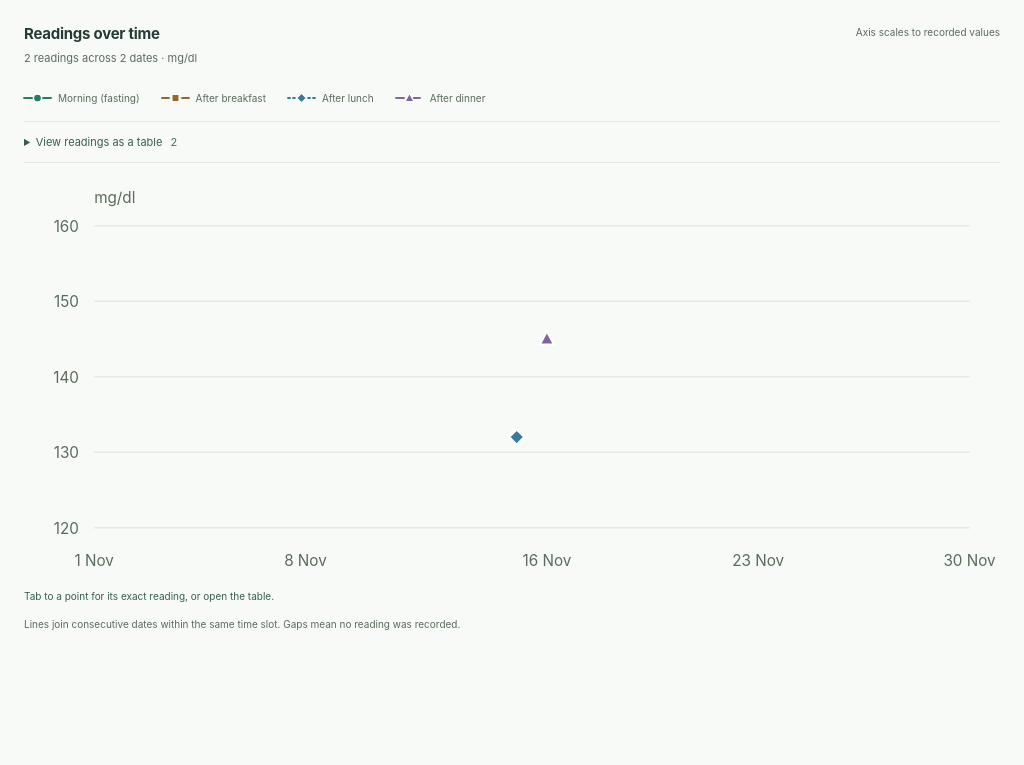
Test case: Accessible trend chart › offers an accessible native disclosure containing every recorded value
Later steps or results of the test are not shown.
Step 1. Click the heading "View readings as a table 2" → (106, 142), box [36,135,177,149]
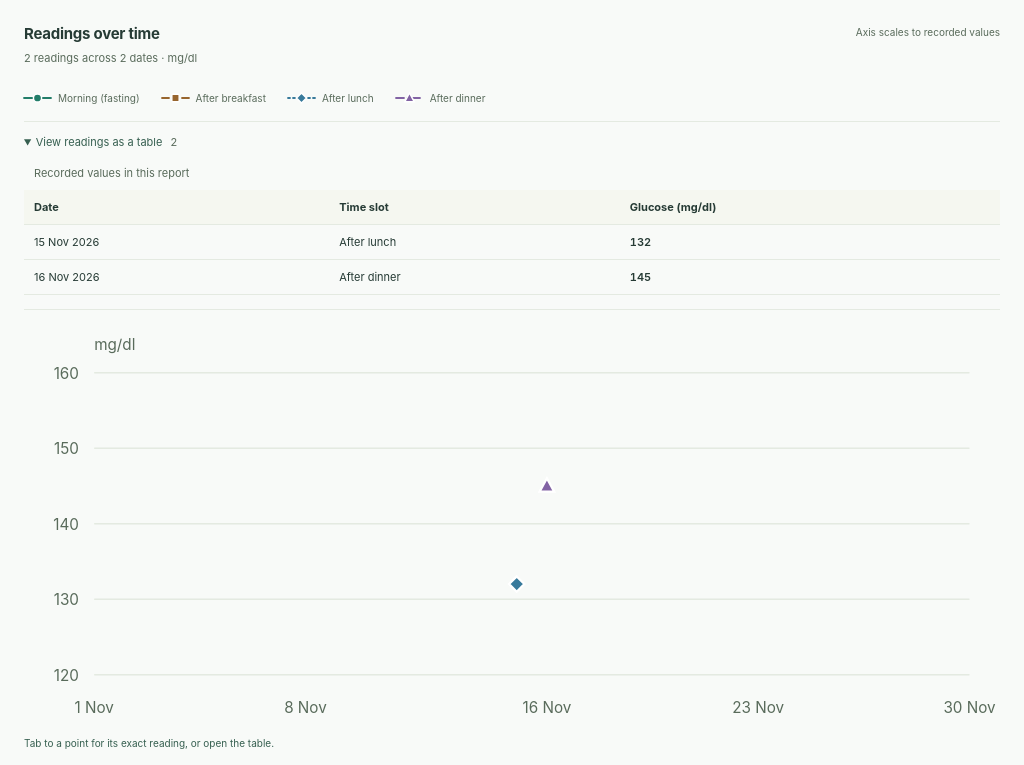
Expected: the column heading "Glucose (mg/dl)" is shown, [620,190,1000,225]
Expected: the number of rows is 3, [24,190,1000,225]; [24,225,1000,260]; [24,260,1000,295]
Expected: the cell "132" is shown, [620,225,1000,260]
